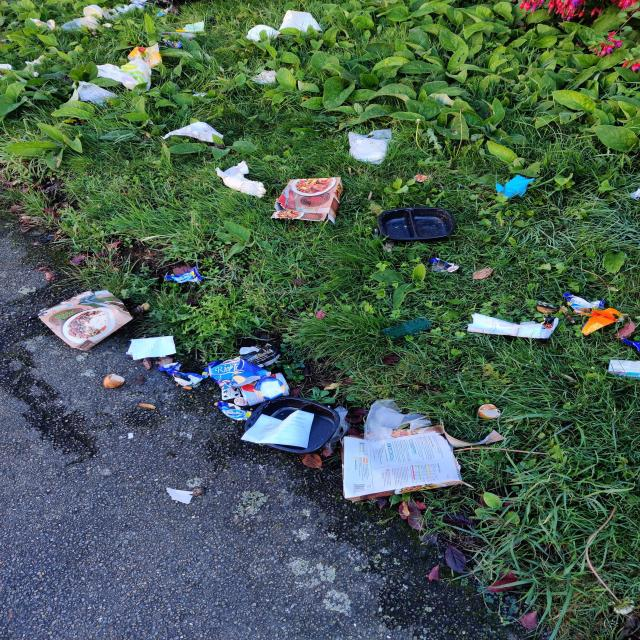litter: (40, 288, 139, 345)
